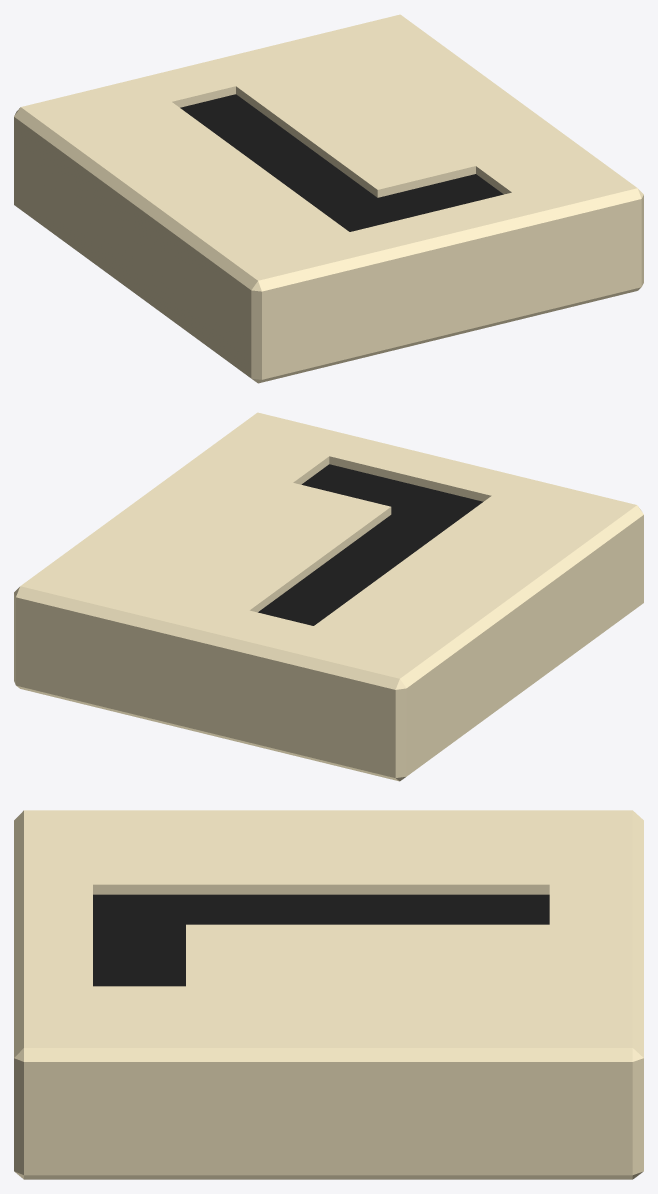
Rendered from Boardgame_Piece_Anagram_Letter_L_01.fbx.
3 views of the same model, one above another, from view 1: azimuth 30°, elevation 25°; view 2: azimuth 150°, elevation 25°; view 3: azimuth 270°, elevation 25° (orthographic). The views are drawn at different scales.
Parts seen in each view (by area): view 1: Boardgame_Piece_Anagram_Letter_L_01; view 2: Boardgame_Piece_Anagram_Letter_L_01; view 3: Boardgame_Piece_Anagram_Letter_L_01.
Part boxes in pixels (x1=…): Boardgame_Piece_Anagram_Letter_L_01: x1=14, y1=14, x2=643, y2=383; Boardgame_Piece_Anagram_Letter_L_01: x1=14, y1=412, x2=643, y2=781; Boardgame_Piece_Anagram_Letter_L_01: x1=14, y1=810, x2=643, y2=1179.
Size of the model in its own units: 1000 by 250 by 1083.
